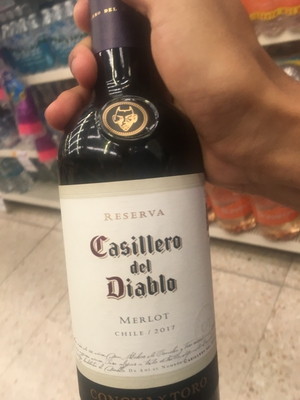casillero del diablo merlot: (49, 1, 226, 400)
